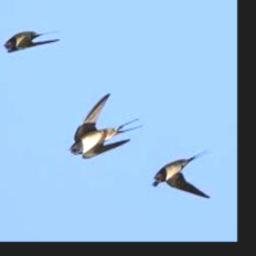Swallow: (70, 94, 145, 160), (153, 149, 211, 199), (4, 30, 61, 53)
